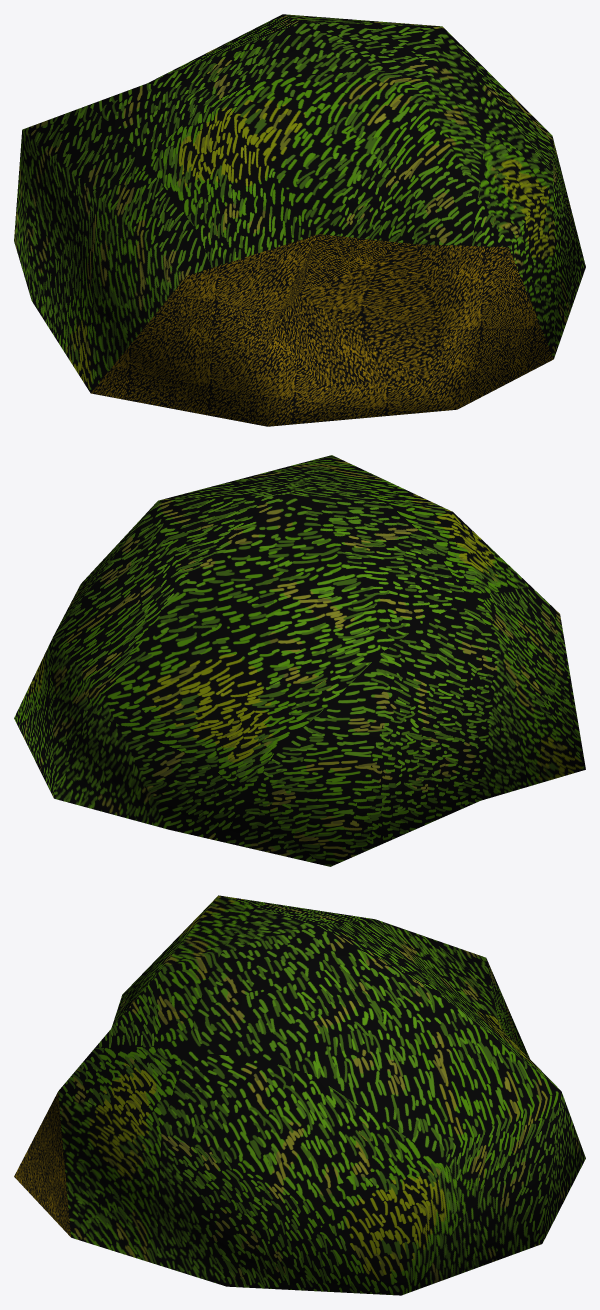
Rendered from FoxDen.fbx.
3 renders of one model, top to bottom at view 1: azimuth 30°, elevation 25°; view 2: azimuth 150°, elevation 25°; view 3: azimuth 270°, elevation 25°, orthographic. The views are drawn at different scales.
Parts seen in each view (by area): view 1: FoxDen; view 2: FoxDen; view 3: FoxDen.
Part boxes in pixels (x1=…): FoxDen: x1=14, y1=14, x2=585, y2=426; FoxDen: x1=14, y1=455, x2=585, y2=866; FoxDen: x1=14, y1=895, x2=585, y2=1295.
Bounding box in the file's own units: 190 × 95.48 × 193.
2 materials, 2 textured.
